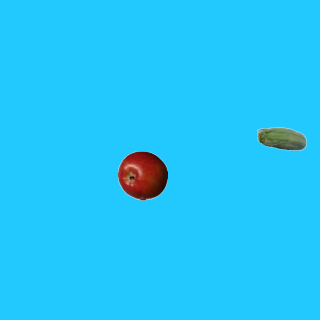Apple Braeburn: (117, 150, 167, 200)
Corn Husk: (256, 115, 306, 165)
